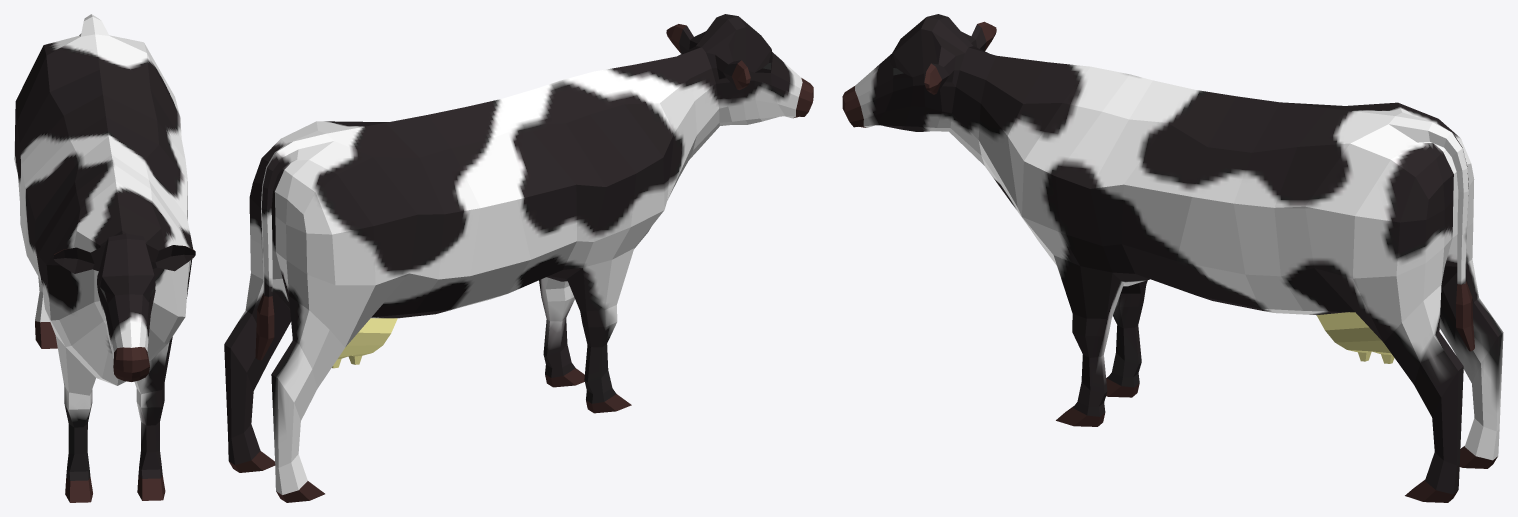
The model's file is moomoo.fbx.
3 renders of one model, left to right at view 1: azimuth 30°, elevation 25°; view 2: azimuth 150°, elevation 25°; view 3: azimuth 270°, elevation 25°, orthographic. The views are drawn at different scales.
Parts seen in each view (by area): view 1: vache10; view 2: vache10; view 3: vache10.
Part boxes in pixels (left/top/right/bottom): vache10: left=14, top=14, right=195, bottom=502; vache10: left=224, top=14, right=813, bottom=502; vache10: left=842, top=14, right=1503, bottom=502.
Bounding box in the file's own units: 5.58 × 5.81 × 9.85.
